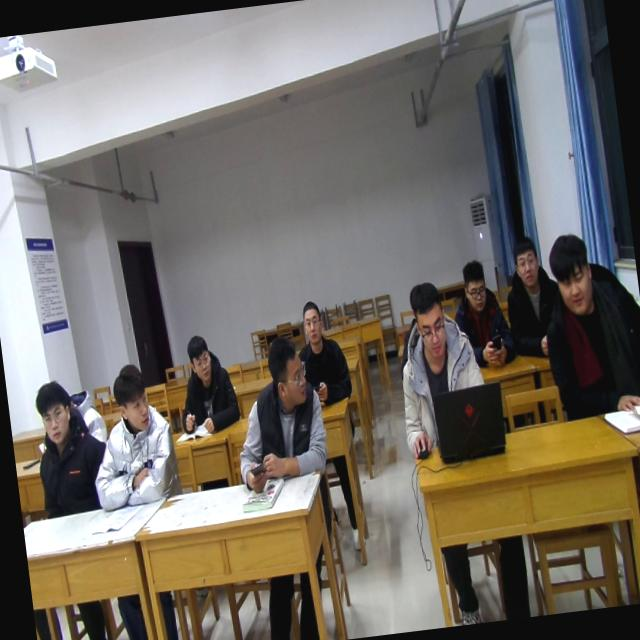down: (404, 273, 454, 365), (456, 252, 491, 315)
lookup: (541, 228, 602, 322), (30, 378, 78, 448), (507, 228, 543, 288), (184, 330, 216, 388), (296, 292, 324, 344)
sit: (530, 224, 640, 421), (385, 274, 498, 464), (224, 330, 332, 497), (78, 358, 185, 517), (25, 376, 109, 528), (498, 230, 568, 363), (444, 252, 514, 372), (171, 329, 242, 436), (290, 295, 355, 410)
